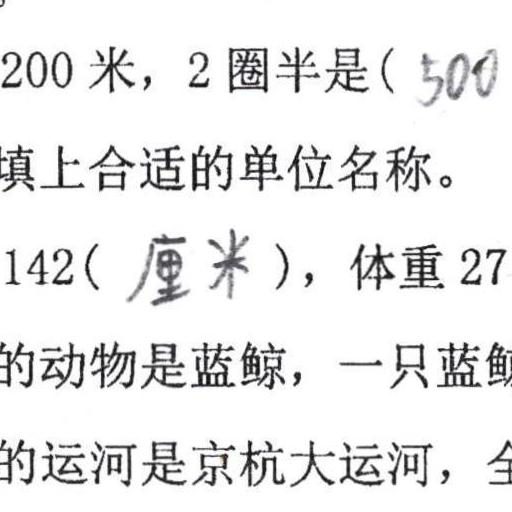ans: (126, 222, 251, 308), (412, 41, 499, 107)
